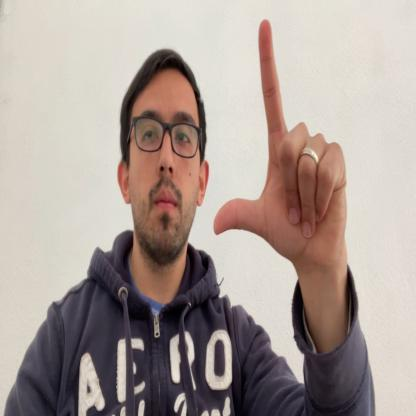L: (214, 18, 347, 266)
